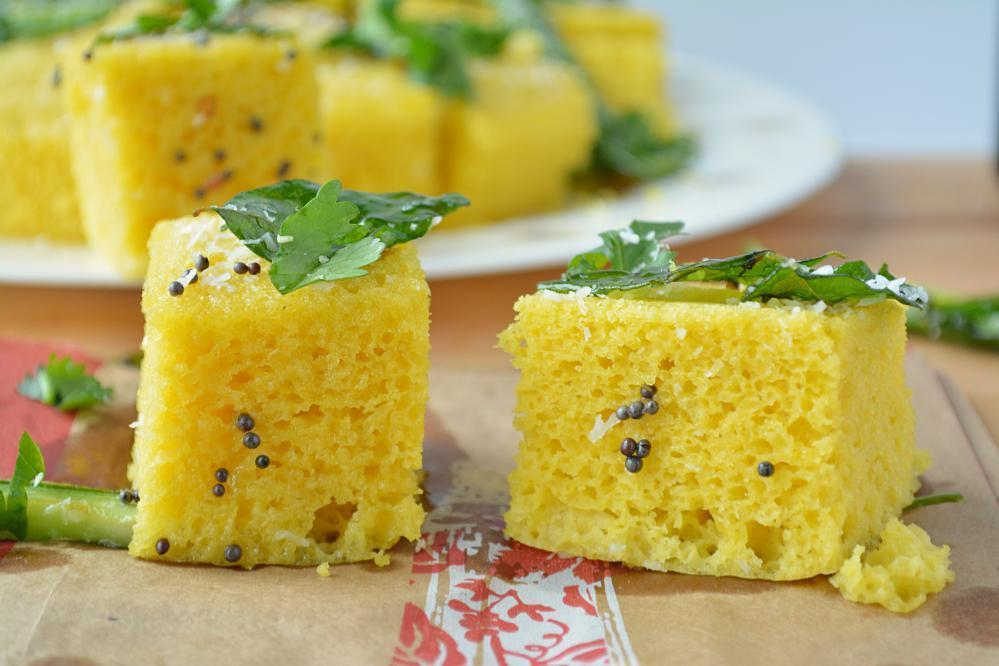dhokla: (10, 7, 974, 628)
